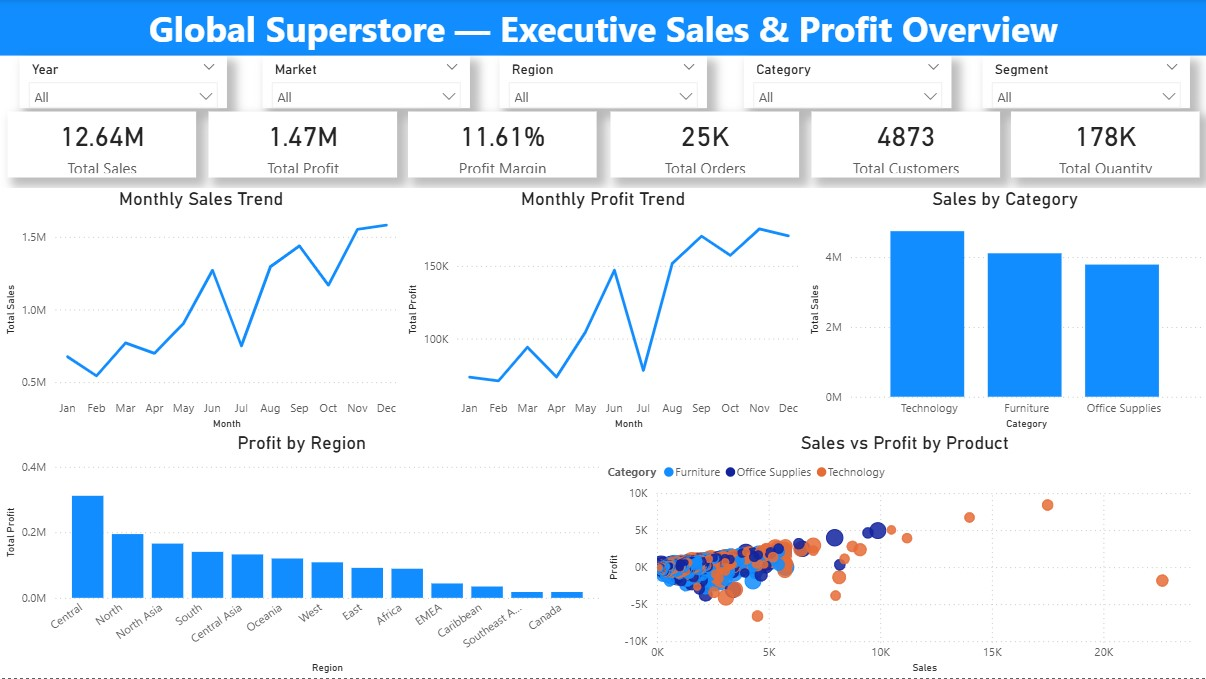

What the dashboard file says about the page in this screenshot:
{"tool":"powerbi","page":{"name":"Executive Overview","canvas":[1280,720],"ordinal":0},"visuals":[{"type":"textbox","box":[0,0,1280,60],"z":0},{"type":"slicer","fields":{"Values":["DateTable.Year"]},"box":[20,60,220,55],"z":1000},{"type":"slicer","fields":{"Values":["superstore.Market"]},"box":[278.3,60,220,55],"z":2000},{"type":"slicer","fields":{"Values":["superstore.Region"]},"box":[530,60,220,55],"z":3000},{"type":"slicer","fields":{"Values":["superstore.Category"]},"box":[788.3,60,220,55],"z":4000},{"type":"slicer","fields":{"Values":["superstore.Segment"]},"box":[1041.7,60,220,55],"z":5000},{"type":"card","fields":{"Values":["DateTable.Total Sales"]},"box":[8.3,120,200,70],"z":6000},{"type":"card","fields":{"Values":["DateTable.Total Profit"]},"box":[221.7,120,200,70],"z":7000},{"type":"card","fields":{"Values":["DateTable.Profit Margin"]},"box":[433.3,120,200,70],"z":8000},{"type":"card","fields":{"Values":["DateTable.Total Orders"]},"box":[646.7,120,200,70],"z":9000},{"type":"card","fields":{"Values":["DateTable.Total Customers"]},"box":[860,120,200,70],"z":10000},{"type":"card","fields":{"Values":["DateTable.Total Quantity"]},"box":[1071.7,120,200,70],"z":11000},{"type":"lineChart","title":"Monthly Sales Trend","fields":{"Category":["DateTable.Month"],"Y":["DateTable.Total Sales"]},"box":[0,200,426.7,260],"z":12000},{"type":"lineChart","title":"Monthly Profit Trend","fields":{"Category":["DateTable.Month"],"Y":["DateTable.Total Profit"]},"box":[426.7,200,426.7,260],"z":13000},{"type":"clusteredColumnChart","title":"Sales by Category","fields":{"Y":["DateTable.Total Sales"],"Category":["superstore.Category"]},"box":[853.3,200,426.7,260],"z":14000},{"type":"clusteredColumnChart","title":"Profit by Region","fields":{"Y":["DateTable.Total Profit"],"Category":["superstore.Region"]},"box":[0,460,640,260],"z":15000},{"type":"scatterChart","title":"Sales vs Profit by Product","fields":{"X":["superstore.Sales"],"Y":["superstore.Profit"],"Size":["Sum(superstore.Quantity)"],"Series":["superstore.Category"]},"box":[640,460,640,260],"z":16000}]}

Visuals, with their boxes in screenshot pixels (x1, y1, x2, y2), scaled from the page's 1280x720 canvas onto the 1206x679 screenshot:
textbox: <bbox>0, 0, 1205, 57</bbox>
slicer - DateTable.Year: <bbox>19, 57, 226, 108</bbox>
slicer - superstore.Market: <bbox>262, 57, 469, 108</bbox>
slicer - superstore.Region: <bbox>499, 57, 707, 108</bbox>
slicer - superstore.Category: <bbox>743, 57, 950, 108</bbox>
slicer - superstore.Segment: <bbox>981, 57, 1189, 108</bbox>
card - DateTable.Total Sales: <bbox>8, 113, 196, 179</bbox>
card - DateTable.Total Profit: <bbox>209, 113, 397, 179</bbox>
card - DateTable.Profit Margin: <bbox>408, 113, 597, 179</bbox>
card - DateTable.Total Orders: <bbox>609, 113, 798, 179</bbox>
card - DateTable.Total Customers: <bbox>810, 113, 999, 179</bbox>
card - DateTable.Total Quantity: <bbox>1010, 113, 1198, 179</bbox>
"Monthly Sales Trend" lineChart: <bbox>0, 189, 402, 434</bbox>
"Monthly Profit Trend" lineChart: <bbox>402, 189, 804, 434</bbox>
"Sales by Category" clusteredColumnChart: <bbox>804, 189, 1205, 434</bbox>
"Profit by Region" clusteredColumnChart: <bbox>0, 434, 603, 678</bbox>
"Sales vs Profit by Product" scatterChart: <bbox>603, 434, 1205, 678</bbox>
